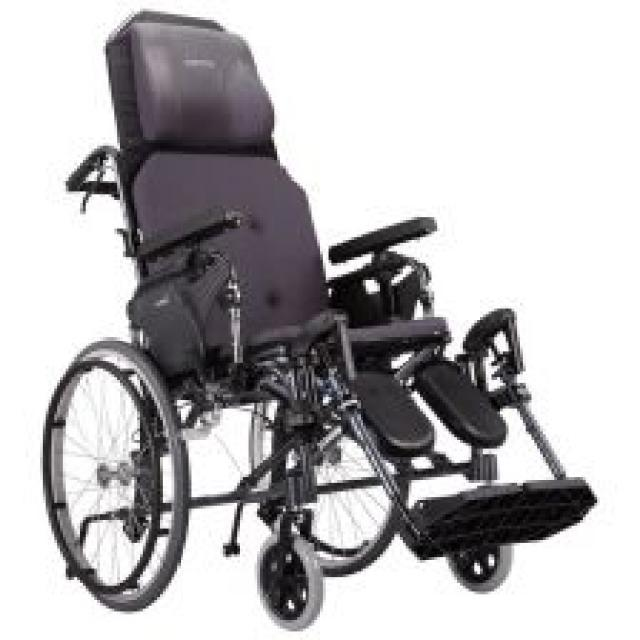wheelchair: (40, 0, 597, 629)
